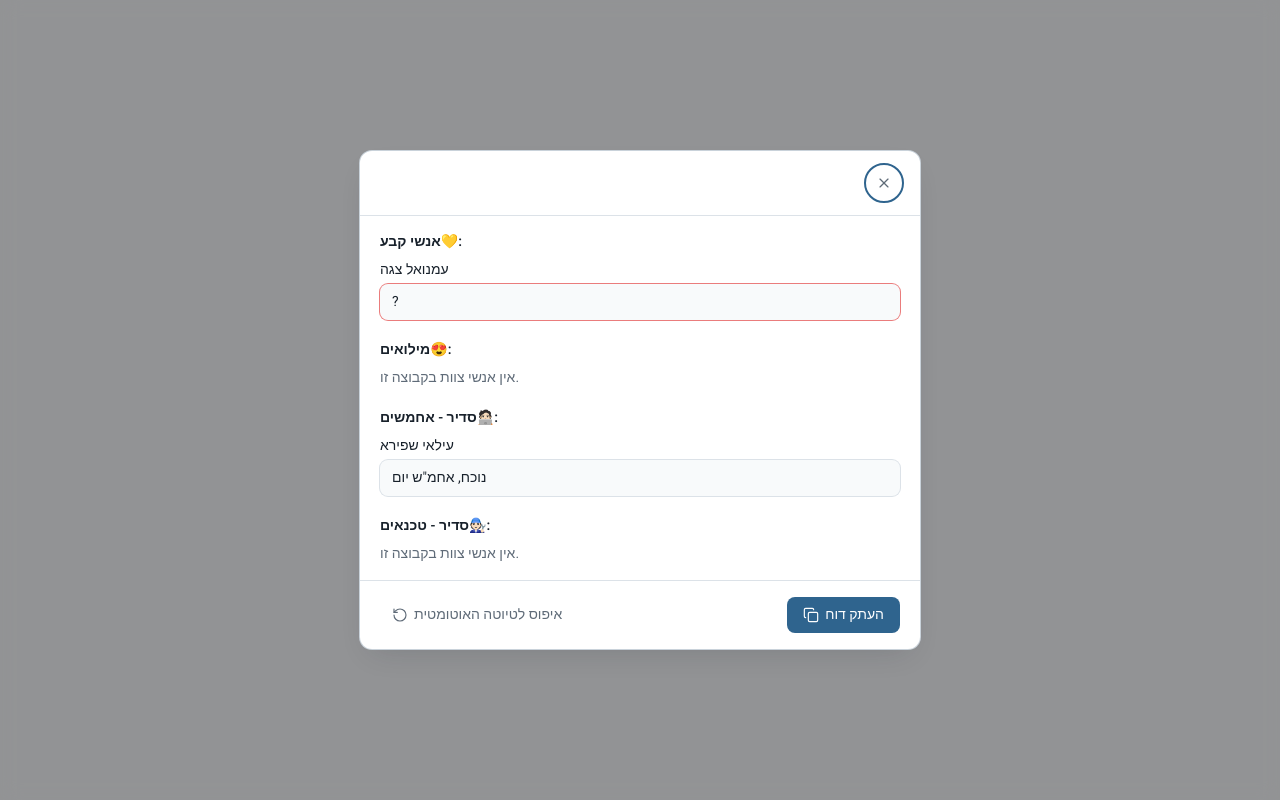
Test: ReportOneEditorOverlay › 24. Reset restores the generated value after a manual edit, with an inline confirm since edits exist
Replace the text in the field named "סטטוס עבור עמנואל צגה" with "נוכח, מגיע בערב" at (640, 302), box [380,284,900,320]
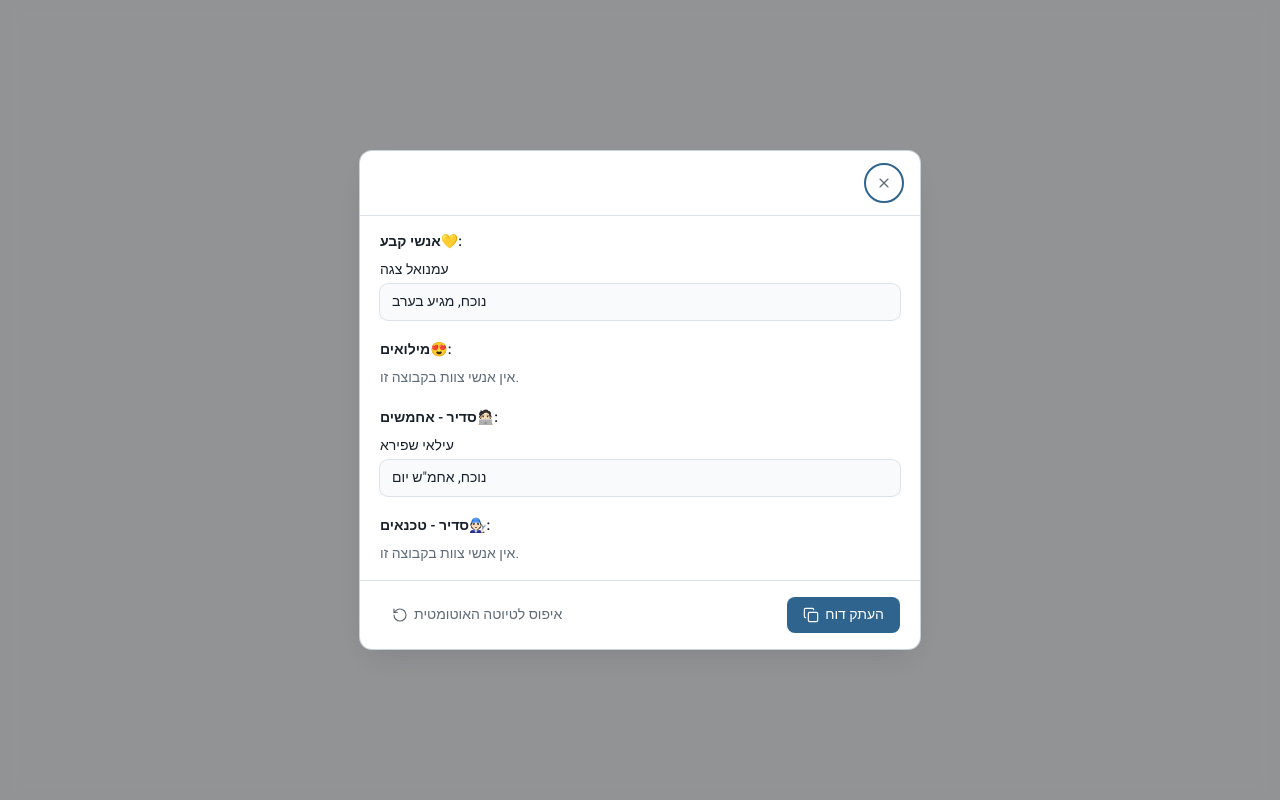
Click the button "איפוס לטיוטה האוטומטית".
click(477, 615)  # box [380,599,574,631]
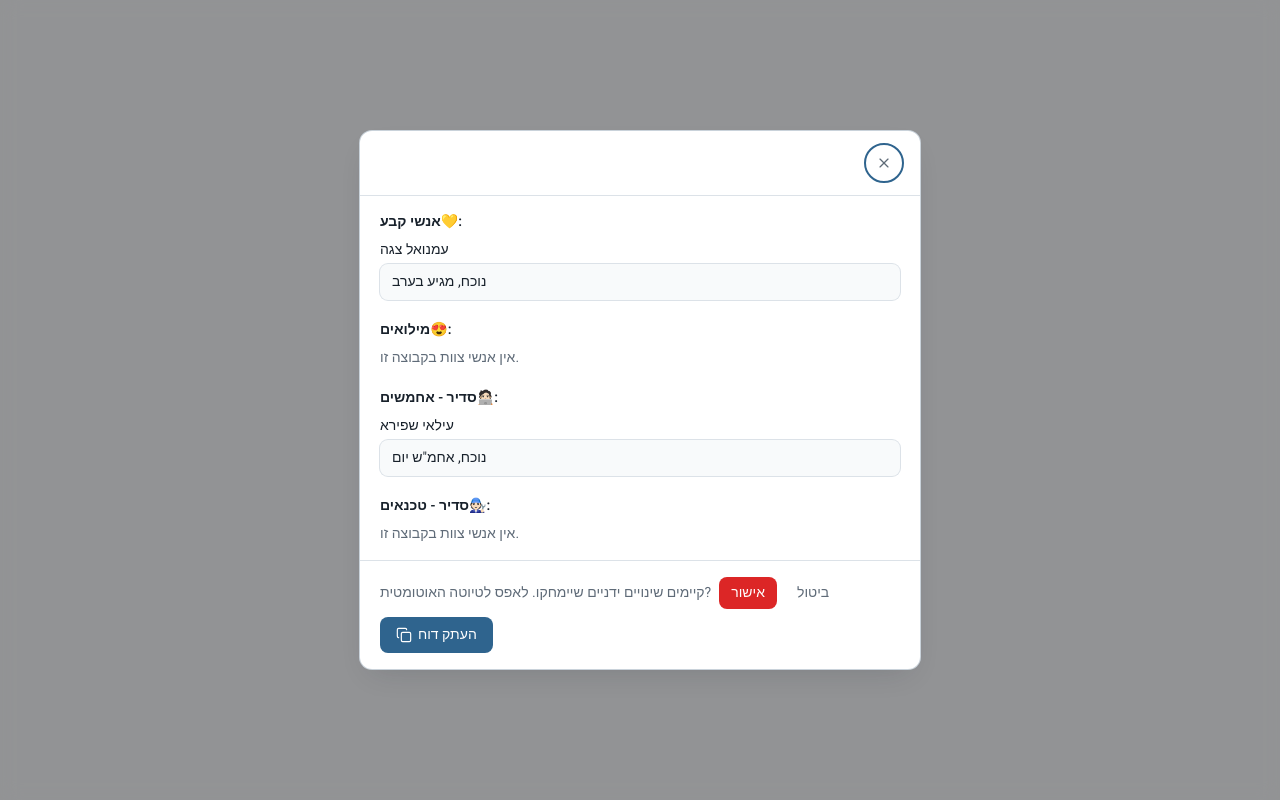
Check: the text "קיימים שינויים ידניים שיימחקו. לאפס לטיוטה האוטומטית?" is shown, box [380,583,711,603]
Click the button "אישור".
click(748, 593)  # box [719,577,777,609]
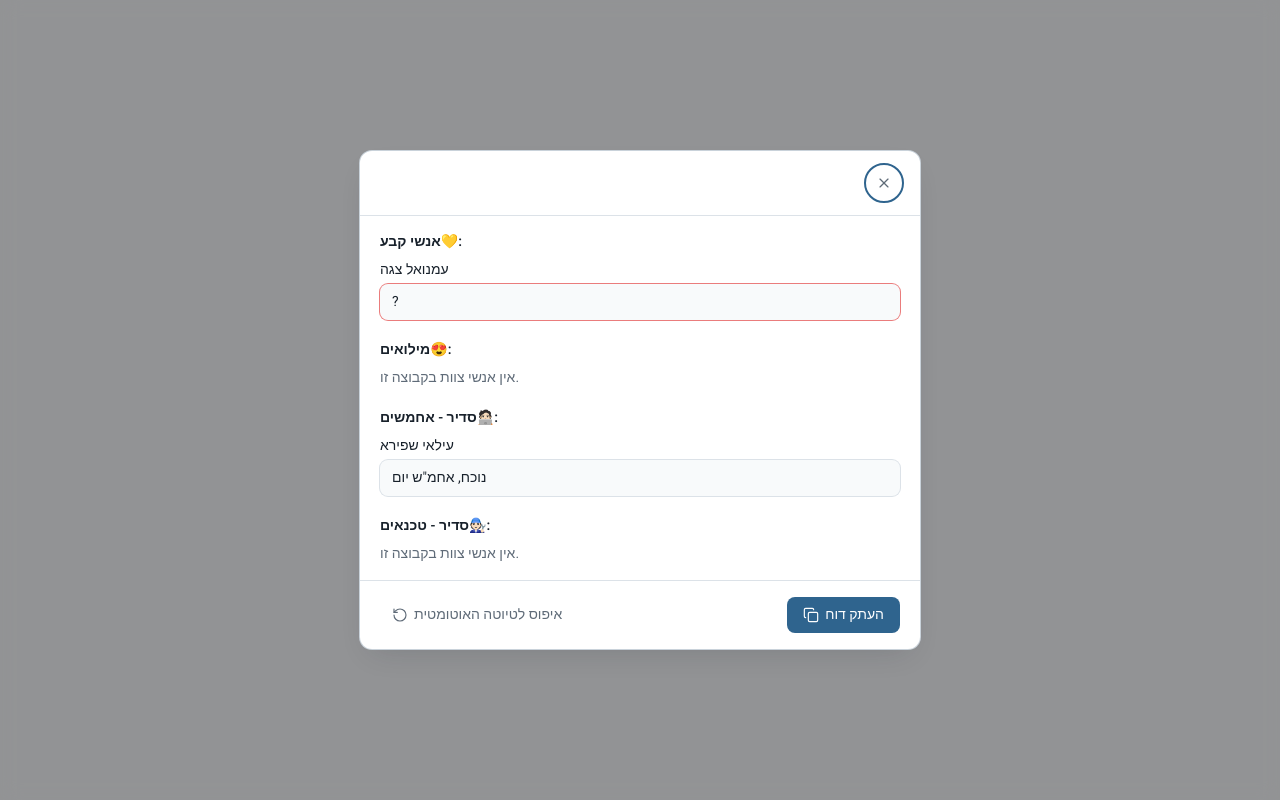
Check: the field named "סטטוס עבור עמנואל צגה" holds "?", box [380,284,900,320]
